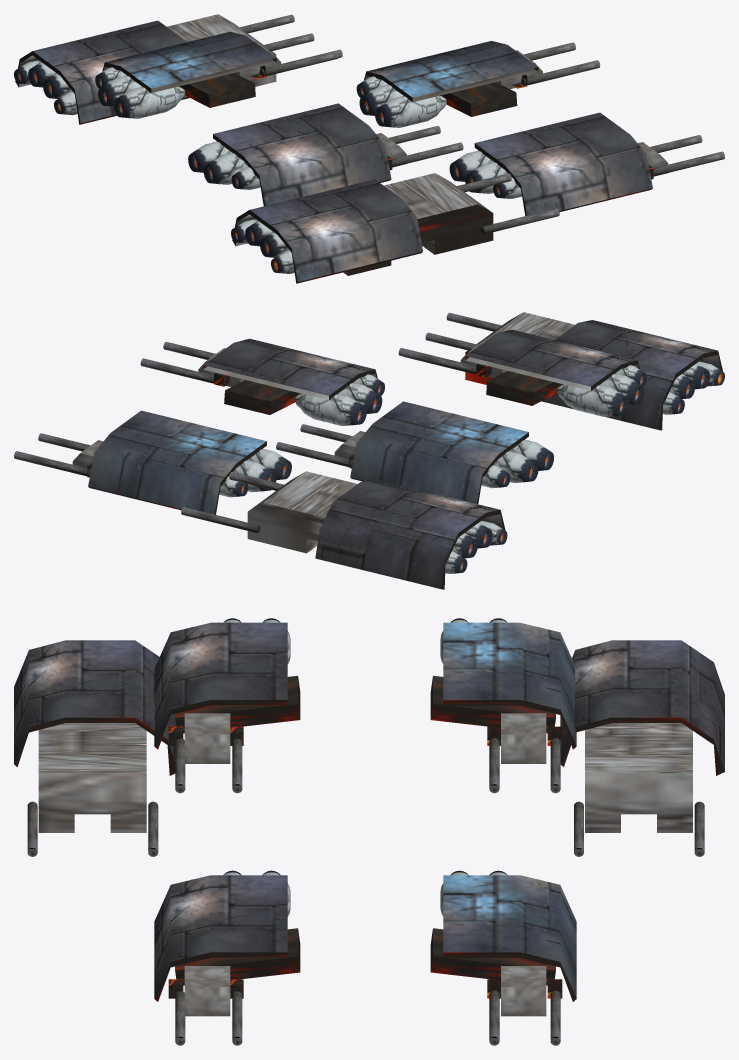
File: Large_QuadWings.obj
The picture shows the model from 3 angles, top to bottom: view 1: azimuth 30°, elevation 25°; view 2: azimuth 150°, elevation 25°; view 3: azimuth 270°, elevation 25°; orthographic projection. The views are drawn at different scales.
Visible parts, largest first — view 1: pCube119, pCube113, pCube114, pCube116, pCube120, pCube115, pCube112 polySurface104, pCube115 polySurface70, pCube120 polySurface70, pCube115 polySurface148, pCube120 polySurface148, pCube112 polySurface154 (+18 smaller); view 2: pCube116, pCube120, pCube115, pCube113, pCube114, pCube119, pCube112 polySurface154, pCube119 polySurface70, pCube114 polySurface70, pCube119 polySurface148, pCube114 polySurface148, pCube112 polySurface104 (+16 smaller); view 3: pCube116, pCube113, pCube114, pCube112 polySurface104, pCube120, pCube119, pCube115, pCube112 polySurface154, pCube114 polySurface74, pCube119 polySurface74, pCube115 polySurface74, pCube120 polySurface74 (+4 smaller).
Part boxes in pixels (x1,y1,x2,y2): pCube119: (474, 112, 652, 215); pCube113: (232, 179, 422, 283); pCube114: (213, 103, 391, 206); pCube116: (15, 20, 189, 124); pCube120: (364, 41, 538, 101); pCube115: (102, 31, 276, 92); pCube112 polySurface104: (343, 173, 493, 275); pCube115 polySurface70: (179, 73, 255, 107); pCube120 polySurface70: (440, 82, 517, 116); pCube115 polySurface148: (113, 86, 185, 118); pCube120 polySurface148: (375, 95, 446, 127); pCube112 polySurface154: (167, 14, 276, 86); pCube116: (315, 479, 505, 589); pCube120: (88, 410, 266, 514); pCube115: (350, 401, 528, 503); pCube113: (541, 320, 722, 430); pCube114: (465, 329, 639, 390); pCube119: (203, 338, 377, 400); pCube112 polySurface154: (247, 471, 357, 553); pCube119 polySurface70: (224, 380, 301, 414); pCube114 polySurface70: (486, 371, 563, 405); pCube119 polySurface148: (294, 394, 366, 425); pCube114 polySurface148: (556, 384, 628, 416); pCube112 polySurface104: (465, 312, 574, 384); pCube116: (560, 640, 724, 775); pCube113: (14, 640, 176, 775); pCube114: (154, 622, 287, 749); pCube112 polySurface104: (38, 723, 146, 832); pCube120: (443, 875, 576, 1001); pCube119: (154, 875, 287, 1001); pCube115: (443, 622, 576, 749); pCube112 polySurface154: (585, 723, 692, 832); pCube114 polySurface74: (184, 713, 230, 763); pCube119 polySurface74: (184, 966, 230, 1016); pCube115 polySurface74: (501, 713, 546, 763); pCube120 polySurface74: (501, 966, 546, 1016).
Bounding box in the file's own units: 16.78 × 3.6 × 16.36.
1 material, 1 textured.
